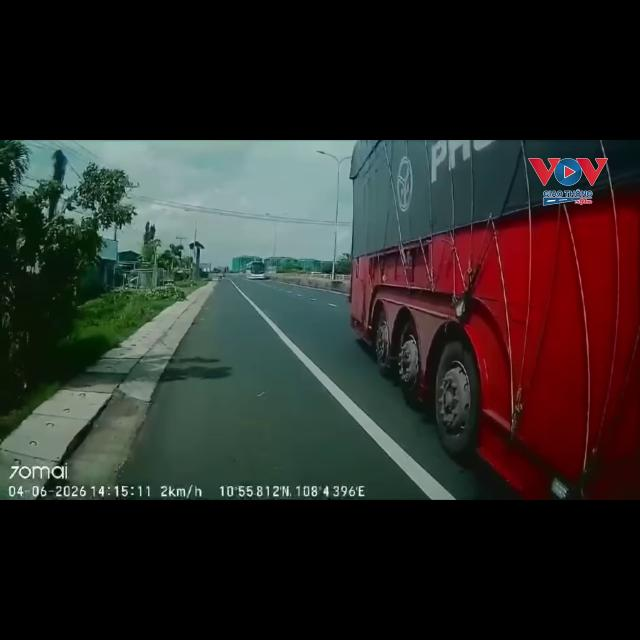truck: (349, 140, 639, 499)
